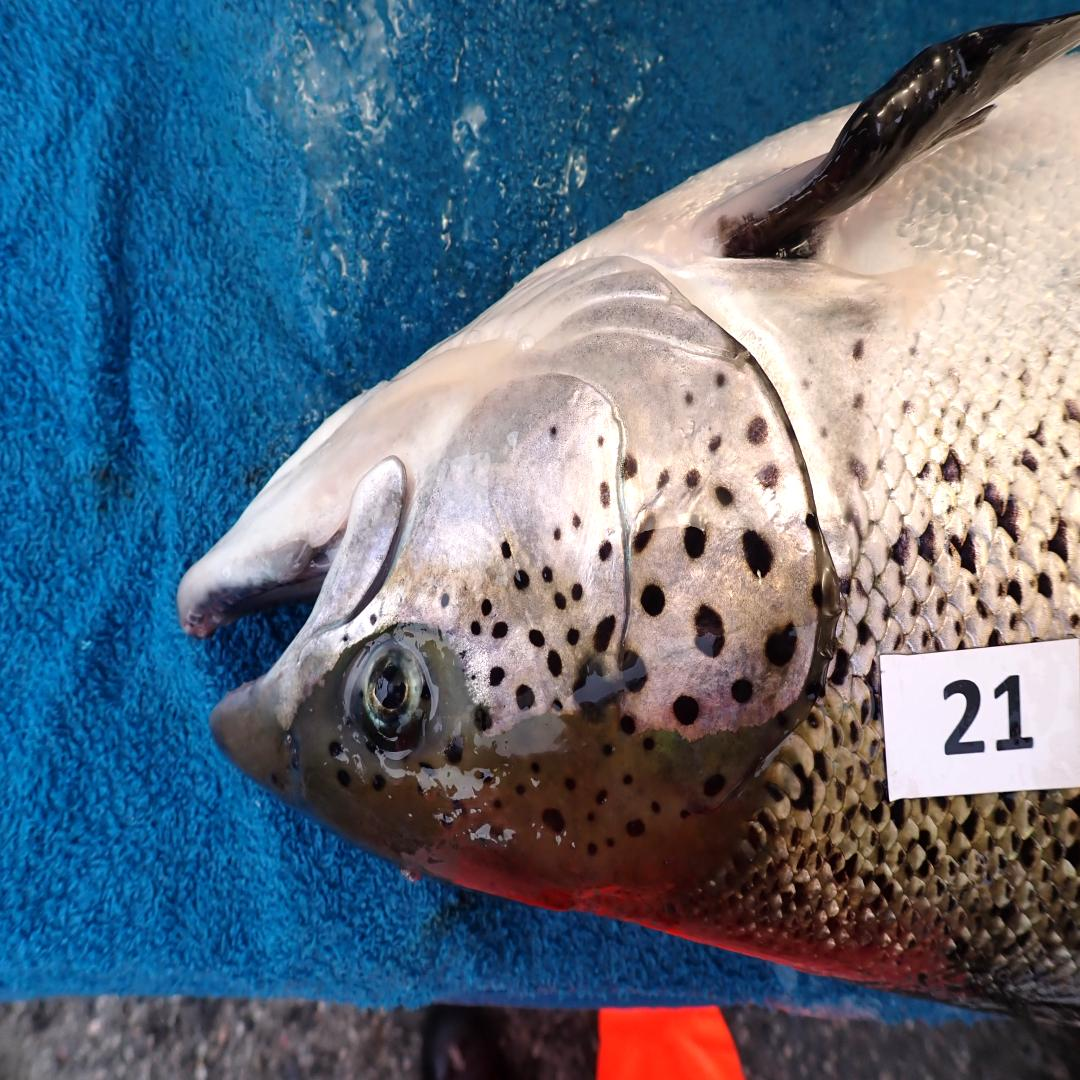roi: (403, 246, 823, 739)
